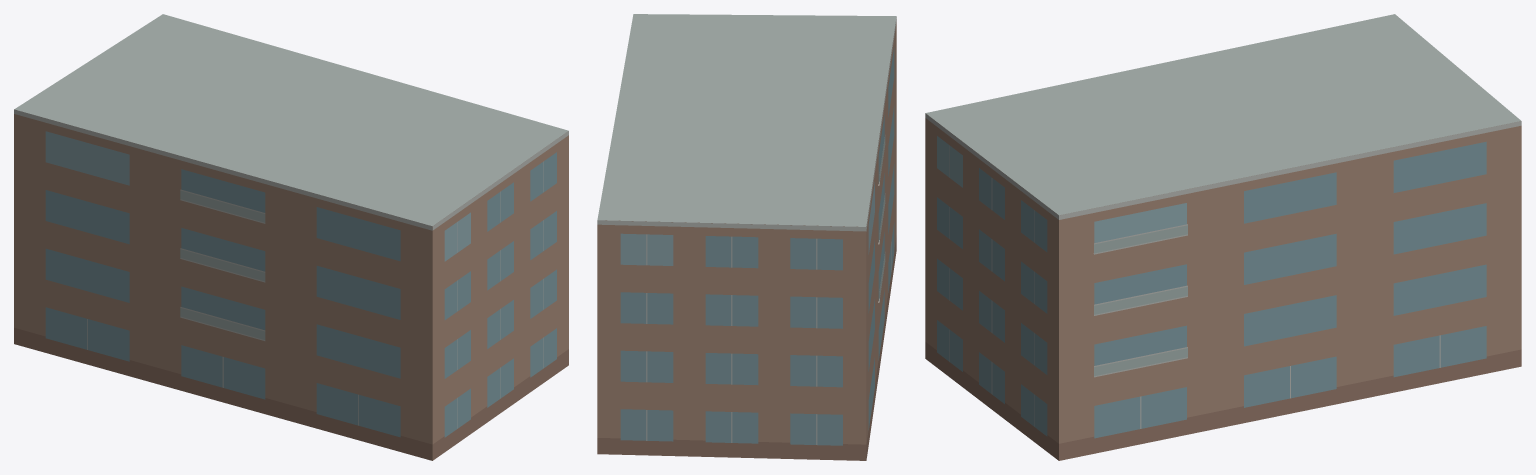
The model's file is survey-upis-32921962.glb.
The picture shows the model from 3 angles, left to right: view 1: azimuth 30°, elevation 25°; view 2: azimuth 150°, elevation 25°; view 3: azimuth 270°, elevation 25°; orthographic projection. The views are drawn at different scales.
Parts seen in each view (by area): view 1: survey-upis-32921962.tmp; view 2: survey-upis-32921962.tmp; view 3: survey-upis-32921962.tmp.
Part boxes in pixels (x1=…): survey-upis-32921962.tmp: x1=14, y1=14, x2=568, y2=460; survey-upis-32921962.tmp: x1=597, y1=14, x2=896, y2=460; survey-upis-32921962.tmp: x1=925, y1=14, x2=1521, y2=460.
Size of the model in its own units: 22.34 by 12.7 by 27.95.
